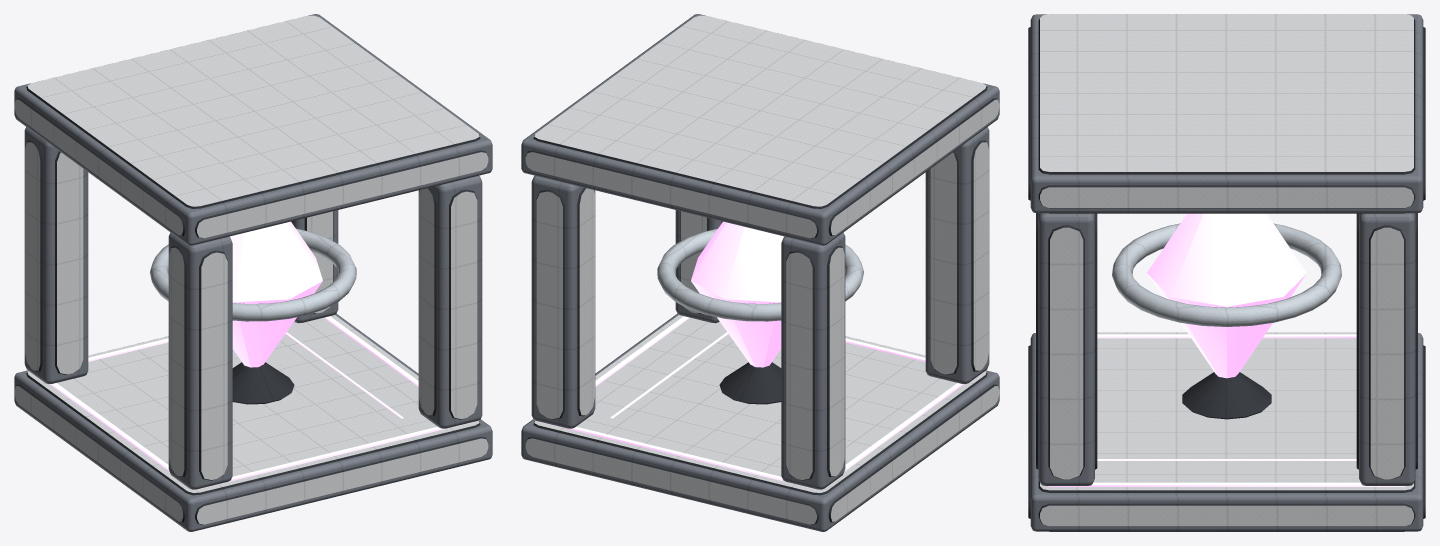
The model's file is R4X_CoreBooster.glb.
The picture shows the model from 3 angles, left to right: view 1: azimuth 30°, elevation 25°; view 2: azimuth 150°, elevation 25°; view 3: azimuth 270°, elevation 25°; orthographic projection. The views are drawn at different scales.
Visible parts, largest first — view 1: R4X_CoreBooster_Body; view 2: R4X_CoreBooster_Body; view 3: R4X_CoreBooster_Body.
Boxes of the visible parts, x1,y1,x2,y2 form: R4X_CoreBooster_Body: (14, 14, 492, 531); R4X_CoreBooster_Body: (521, 14, 999, 531); R4X_CoreBooster_Body: (1028, 14, 1425, 531).
Bounding box in the file's own units: 0.52 × 0.52 × 0.52.
5 materials, 4 textured.
